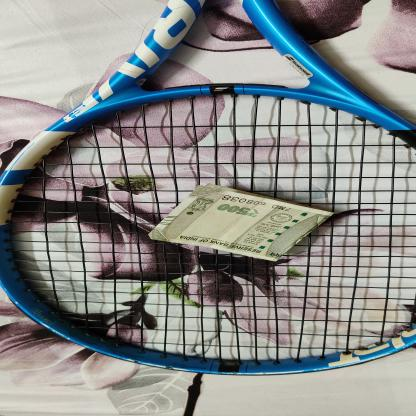New500Front: (146, 182, 337, 262)
